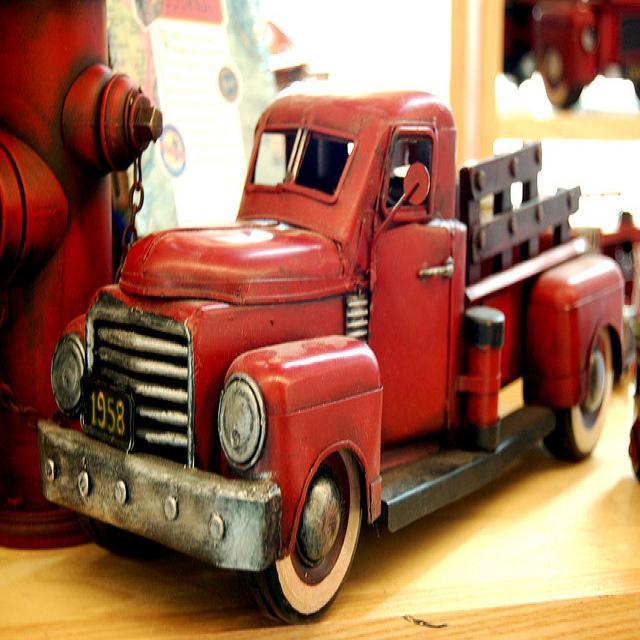Vehicle: (40, 78, 638, 626)
